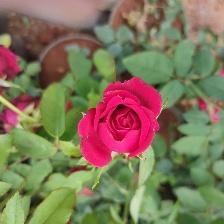rose: (79, 76, 164, 168)
